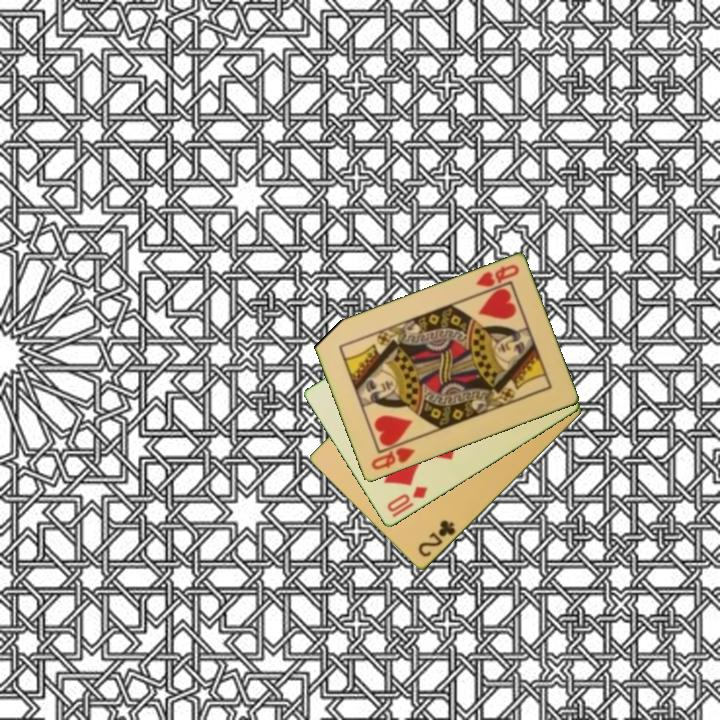10d: (383, 483, 430, 515)
2c: (414, 517, 459, 560)
Qh: (367, 444, 417, 473), (472, 261, 522, 290)
